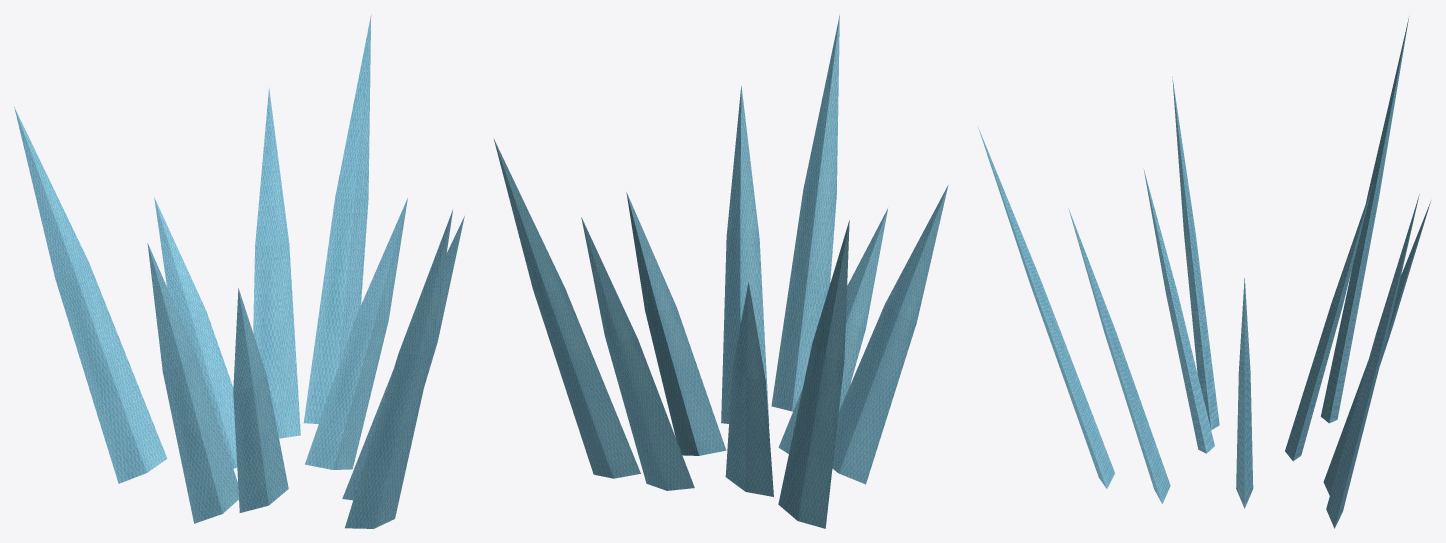
The model's file is orvalho_da_lua.glb.
3 renders of one model, left to right at view 1: azimuth 30°, elevation 25°; view 2: azimuth 150°, elevation 25°; view 3: azimuth 270°, elevation 25°, orthographic. The views are drawn at different scales.
Visible parts, largest first — view 1: orvalho_da_lua; view 2: orvalho_da_lua; view 3: orvalho_da_lua.
Boxes of the visible parts, box(x1,y1,x2,y2) form: orvalho_da_lua: box(14, 14, 464, 528); orvalho_da_lua: box(493, 14, 948, 528); orvalho_da_lua: box(978, 16, 1431, 528).
Bounding box in the file's own units: 0.6032 × 0.5822 × 0.6503.
1 material, 1 textured.
